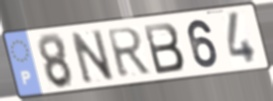4: (227, 10, 258, 68)
6: (185, 18, 220, 70)
8: (36, 31, 75, 91)
B: (141, 20, 187, 76)
N: (68, 27, 117, 87)
R: (104, 25, 153, 80)
